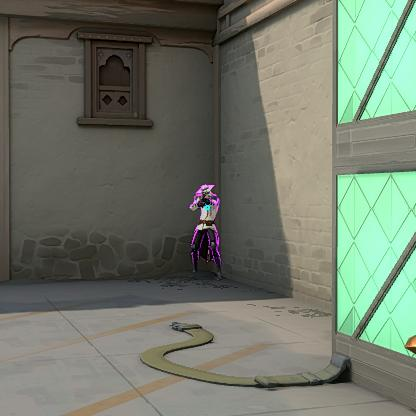enemyBody: (200, 199, 213, 223)
enemyHead: (201, 188, 210, 197)
